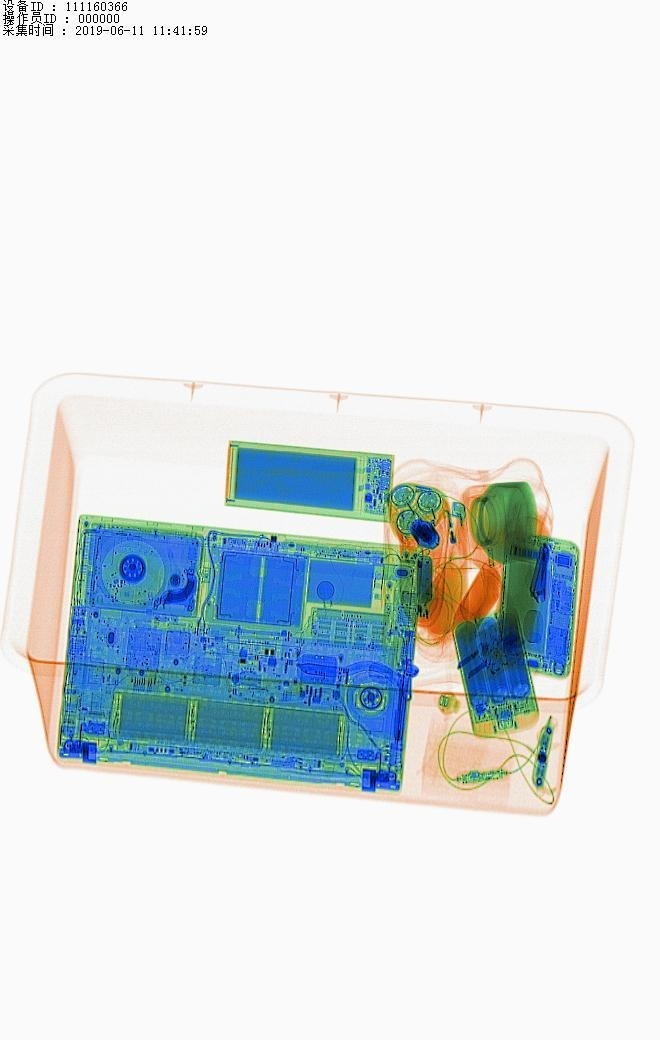NonmetallicFire: (431, 496, 481, 595)
